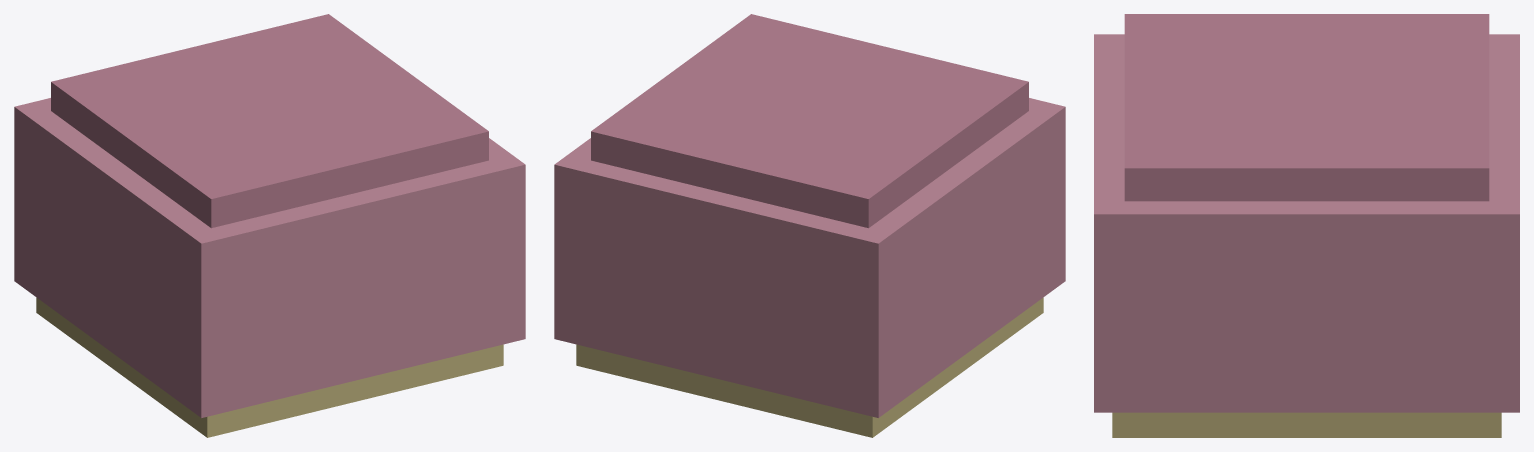
The model's file is pouf_silk.glb.
3 renders of one model, left to right at view 1: azimuth 30°, elevation 25°; view 2: azimuth 150°, elevation 25°; view 3: azimuth 270°, elevation 25°, orthographic. The views are drawn at different scales.
Bounding box in the file's own units: 0.7 × 0.48 × 0.7.
